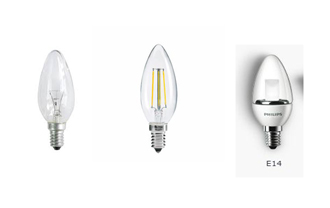Light_bulb: (137, 41, 180, 157), (33, 47, 78, 155), (250, 50, 295, 153)
